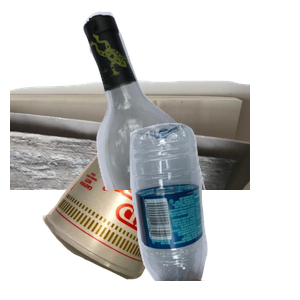glass: (81, 10, 300, 190)
paper: (10, 77, 250, 257)
plastic: (127, 120, 300, 300)
trash: (40, 121, 221, 300)
